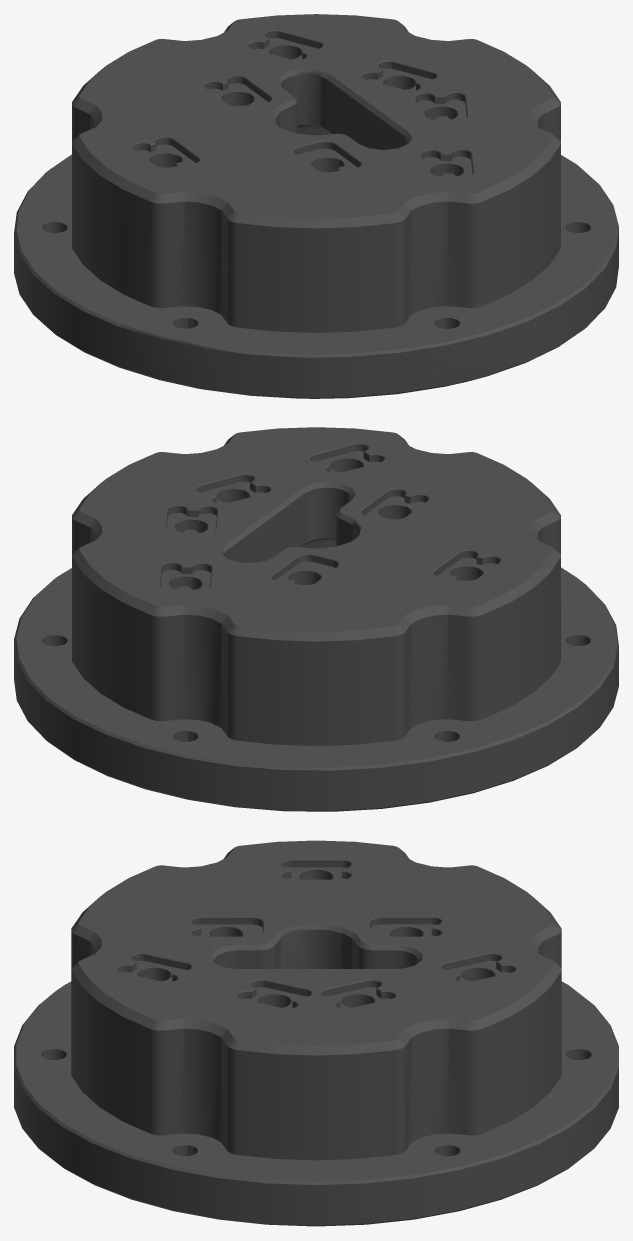
File: link_head_z.glb
The picture shows the model from 3 angles, top to bottom: view 1: azimuth 30°, elevation 25°; view 2: azimuth 150°, elevation 25°; view 3: azimuth 270°, elevation 25°; orthographic projection.
Visible parts, largest first — view 1: link_head_z; view 2: link_head_z; view 3: link_head_z.
Part boxes in pixels (x1=…): link_head_z: x1=14, y1=14, x2=618, y2=398; link_head_z: x1=14, y1=427, x2=618, y2=811; link_head_z: x1=14, y1=840, x2=618, y2=1226.
Size of the model in its own units: 0.074 by 0.021 by 0.0737.
Materials: 1 (1 with a texture image).
